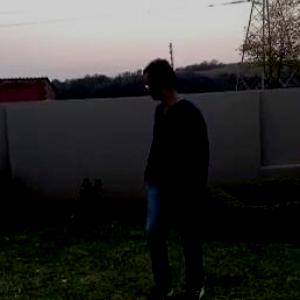follow: (138, 57, 210, 271)
